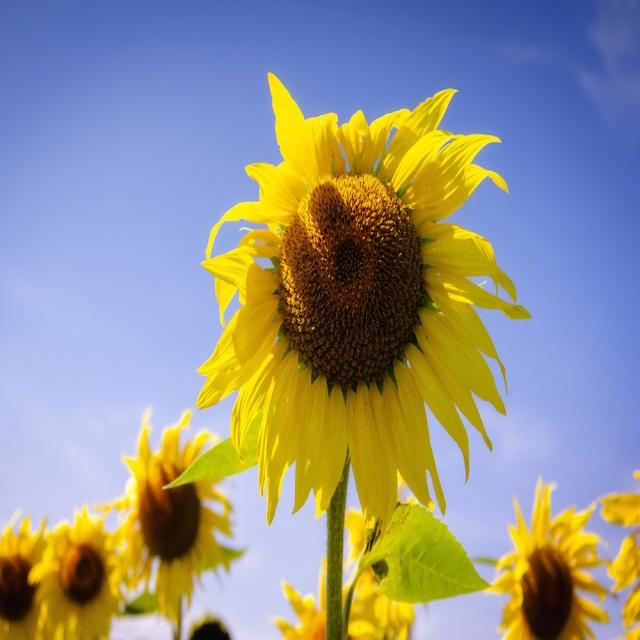sunflower: (183, 61, 534, 538), (88, 396, 246, 623), (480, 464, 624, 640), (257, 507, 421, 640), (24, 491, 136, 640), (587, 455, 640, 638), (0, 502, 59, 640), (174, 601, 240, 640)
